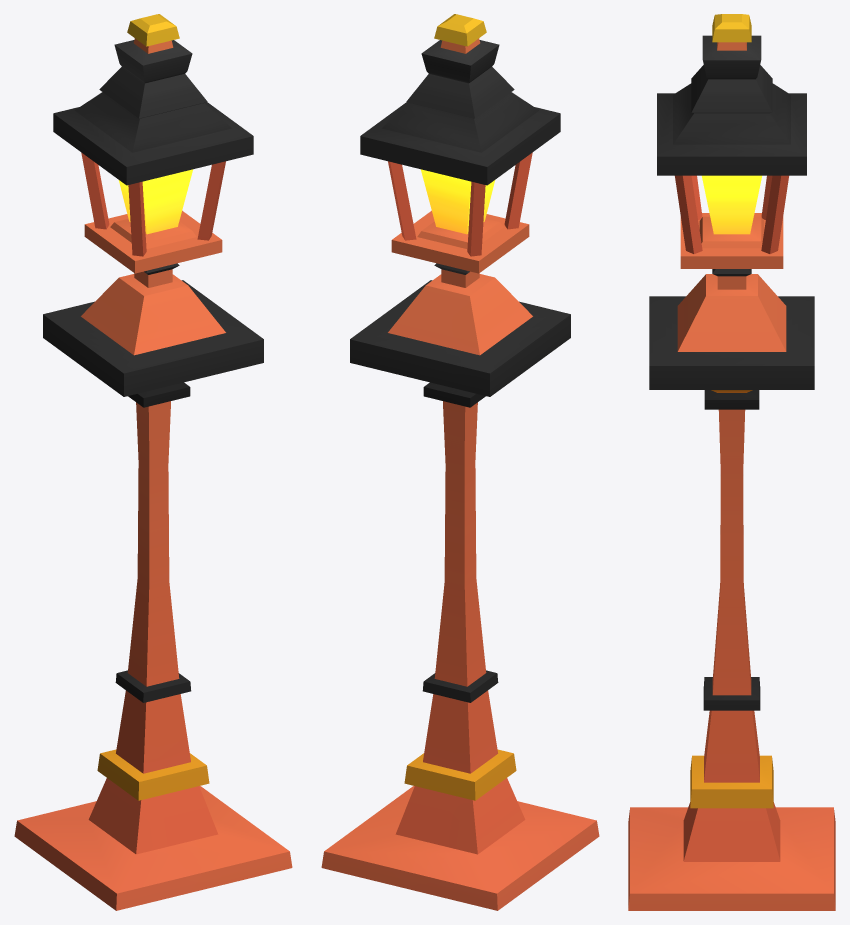
Rendered from RO32ltX6zJ.glb.
3 renders of one model, left to right at view 1: azimuth 30°, elevation 25°; view 2: azimuth 150°, elevation 25°; view 3: azimuth 270°, elevation 25°, orthographic.
Visible parts, largest first — view 1: Lamp; view 2: Lamp; view 3: Lamp.
Boxes of the visible parts, box(x1,y1,x2,y2) form: Lamp: box(14, 14, 292, 910); Lamp: box(321, 14, 599, 910); Lamp: box(628, 14, 835, 910).
Bounding box in the file's own units: 0.4539 × 2.05 × 0.4539.
Materials: 1 (1 with a texture image).
